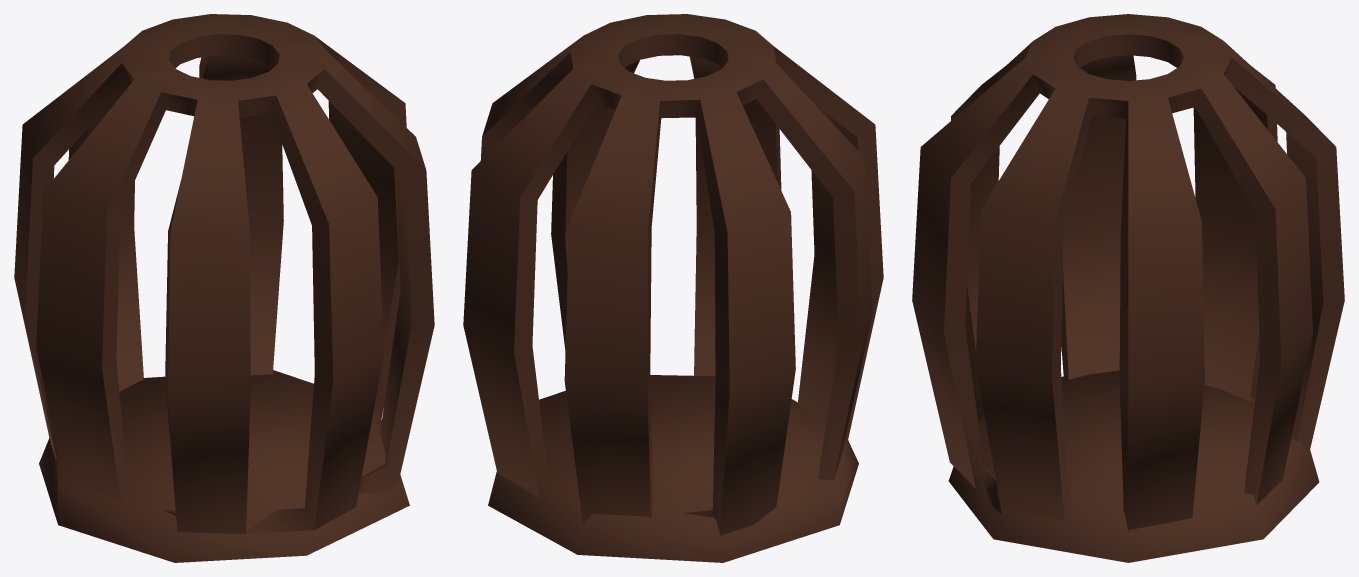
File: Cage.glb
3 renders of one model, left to right at view 1: azimuth 30°, elevation 25°; view 2: azimuth 150°, elevation 25°; view 3: azimuth 270°, elevation 25°, orthographic.
Visible parts, largest first — view 1: Cage; view 2: Cage; view 3: Cage.
Boxes of the visible parts, left/top/right/bottom form: Cage: left=14, top=14, right=434, bottom=562; Cage: left=463, top=14, right=883, bottom=562; Cage: left=912, top=14, right=1344, bottom=562.
Bounding box in the file's own units: 0.7314 × 0.7975 × 0.7314.
